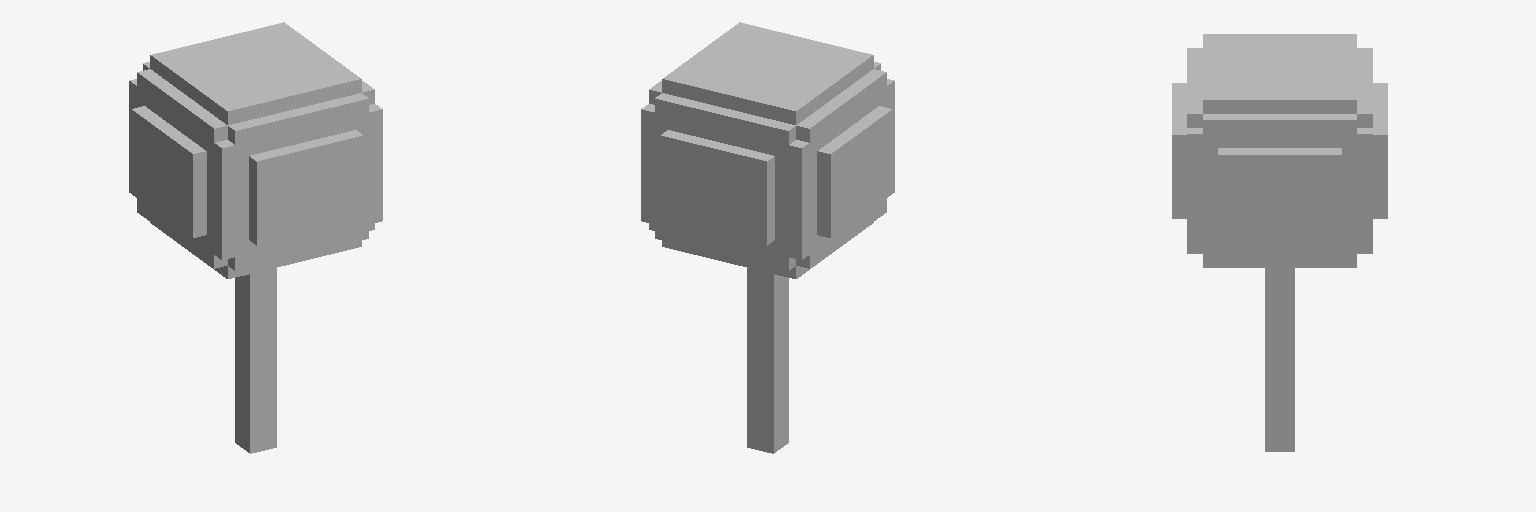
File: Tree.obj
3 renders of one model, left to right at view 1: azimuth 30°, elevation 25°; view 2: azimuth 150°, elevation 25°; view 3: azimuth 270°, elevation 25°, orthographic.
Visible parts, largest first — view 1: object 1; view 2: object 1; view 3: object 1.
Part boxes in pixels (x1,y1,x2,y2): object 1: (129, 22, 382, 453); object 1: (641, 22, 894, 453); object 1: (1172, 34, 1387, 451).
Bounding box in the file's own units: 1.4 × 2.7 × 1.4.